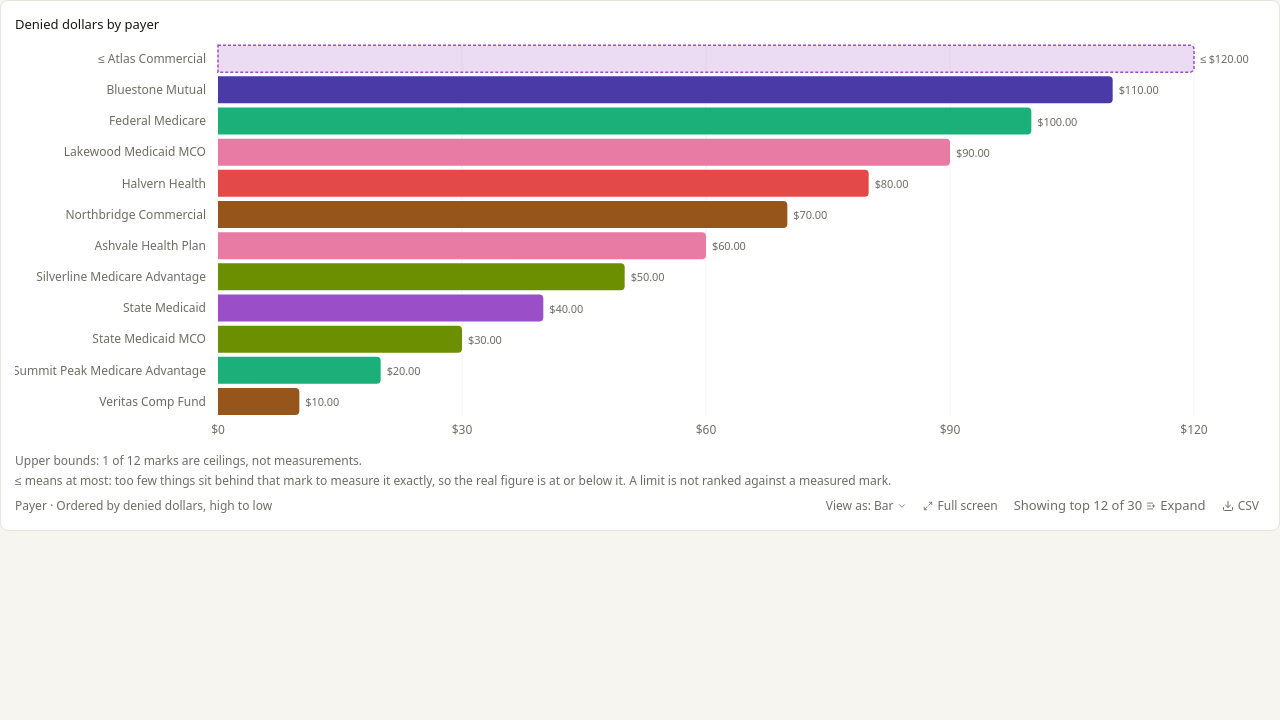
Test: InvestigationChart — what the fullscreen dialog carries › keeps the action row working inside it
Click the button with aria-label "View full screen": {"x": 961, "y": 506} 918,496 -> 1004,516
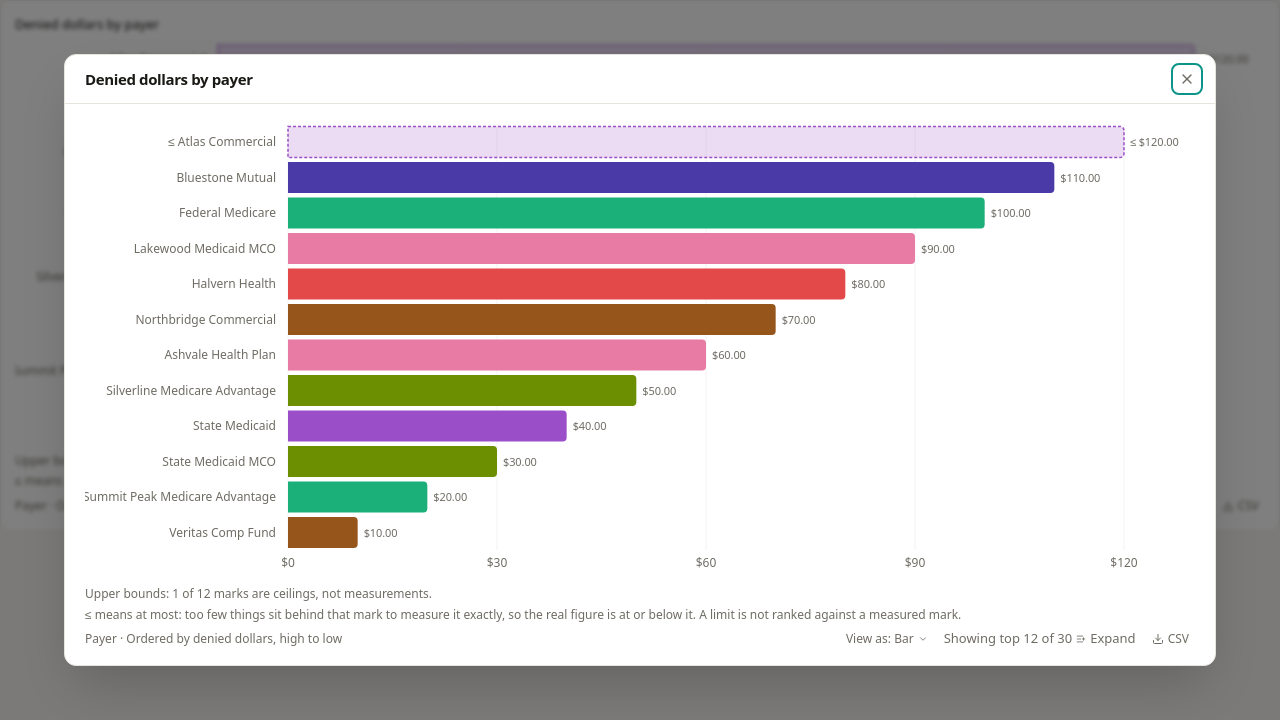
Expected: the button "CSV" is shown, 1146,629 -> 1195,649
Click the button "Showing top 12 of 30 Expand": {"x": 1040, "y": 639} 938,629 -> 1142,649
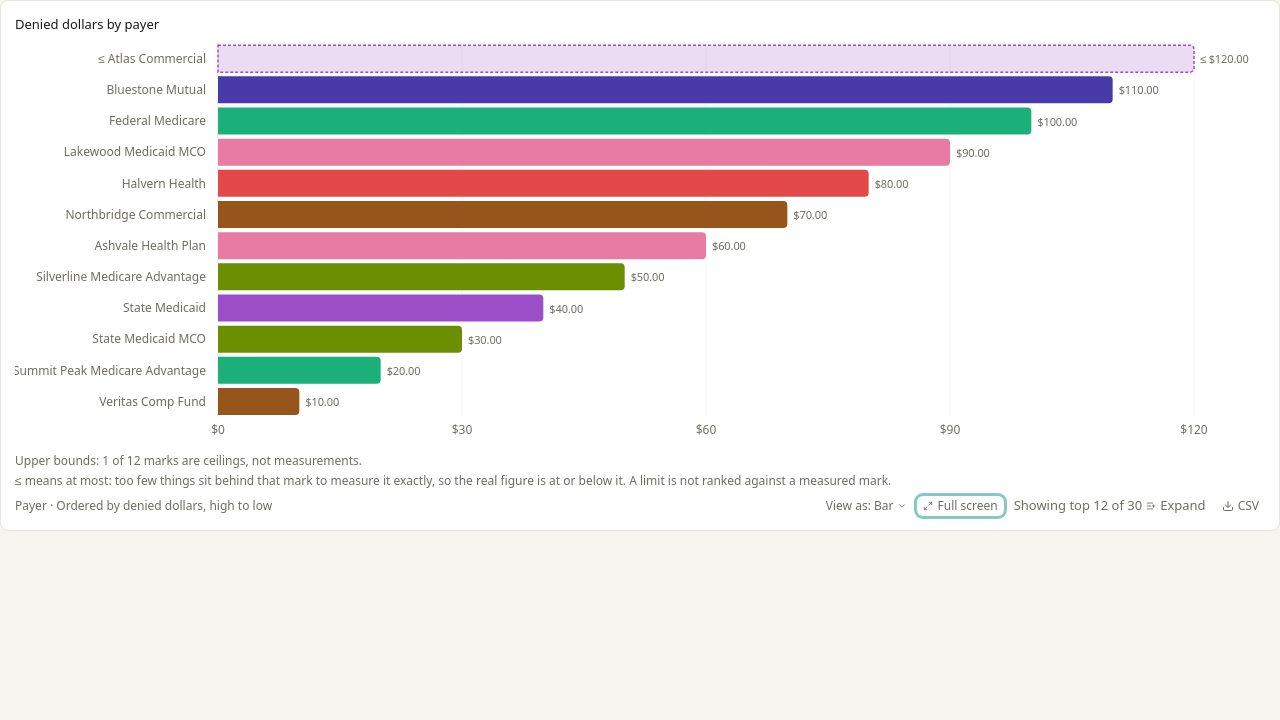
Expected: the dialog is gone
